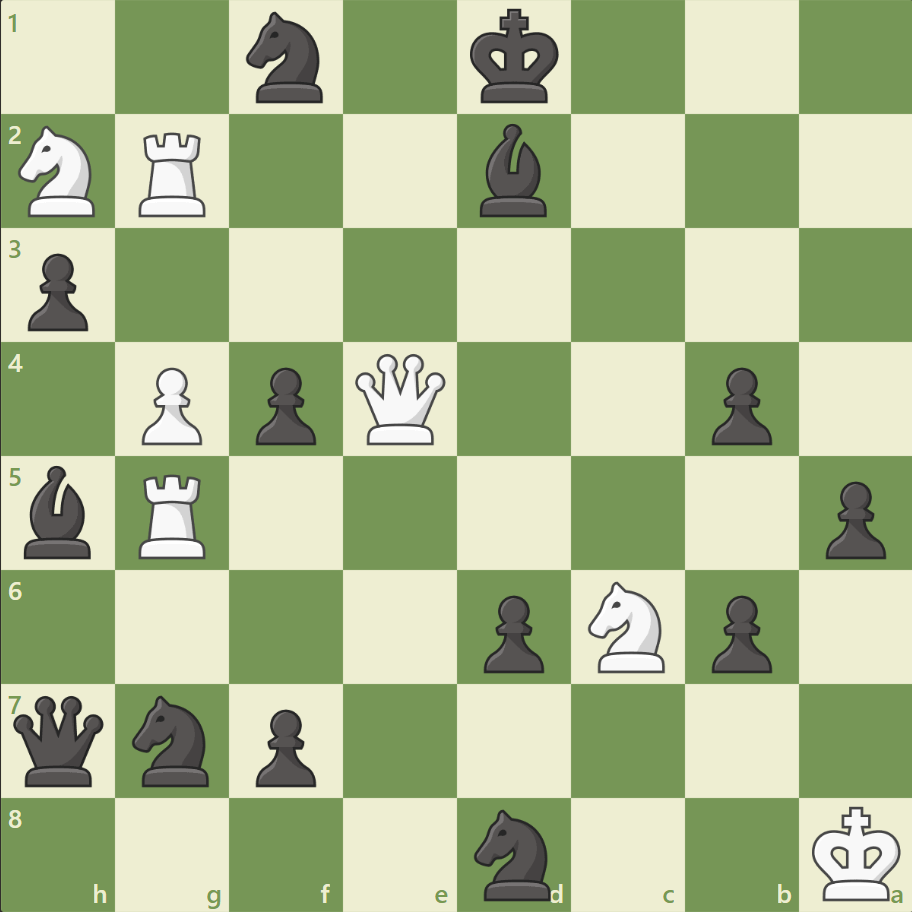K: (806, 798, 906, 906)
N: (579, 575, 676, 677), (11, 121, 108, 223)
P: (133, 359, 208, 450)
Q: (351, 349, 450, 449)
R: (133, 466, 215, 563), (133, 125, 215, 222)
b: (17, 460, 101, 563), (471, 120, 555, 222)
k: (465, 4, 565, 112)
n: (124, 688, 222, 791), (238, 7, 335, 110), (465, 802, 562, 904)
p: (247, 700, 322, 791), (701, 586, 776, 677), (474, 586, 549, 677), (701, 359, 776, 450), (247, 359, 322, 450), (20, 246, 95, 337), (815, 473, 889, 564)
q: (10, 690, 109, 789)
